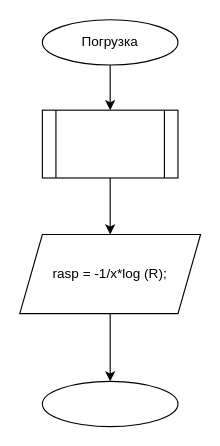
The diagram is 220 pixels wide and 446 high, and some of its shapes have lost their labels. The box of each missing label's shape, as (x1, y1, x2, y2) in pixels:
R=rand(1,1);: (41, 109, 178, 178)
Конец: (41, 380, 178, 427)
